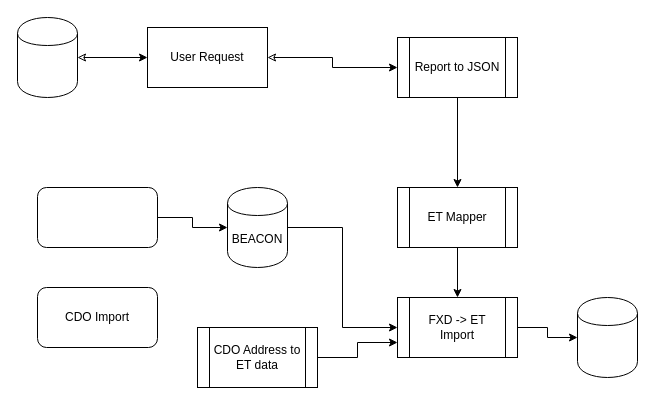
This 655x405 diagram has some shape labels left out. Each missing label, with the box of its shape:
DRE (SEP): (16, 16, 78, 98)
FMSDB: (576, 296, 638, 378)
system request: (36, 186, 158, 248)
